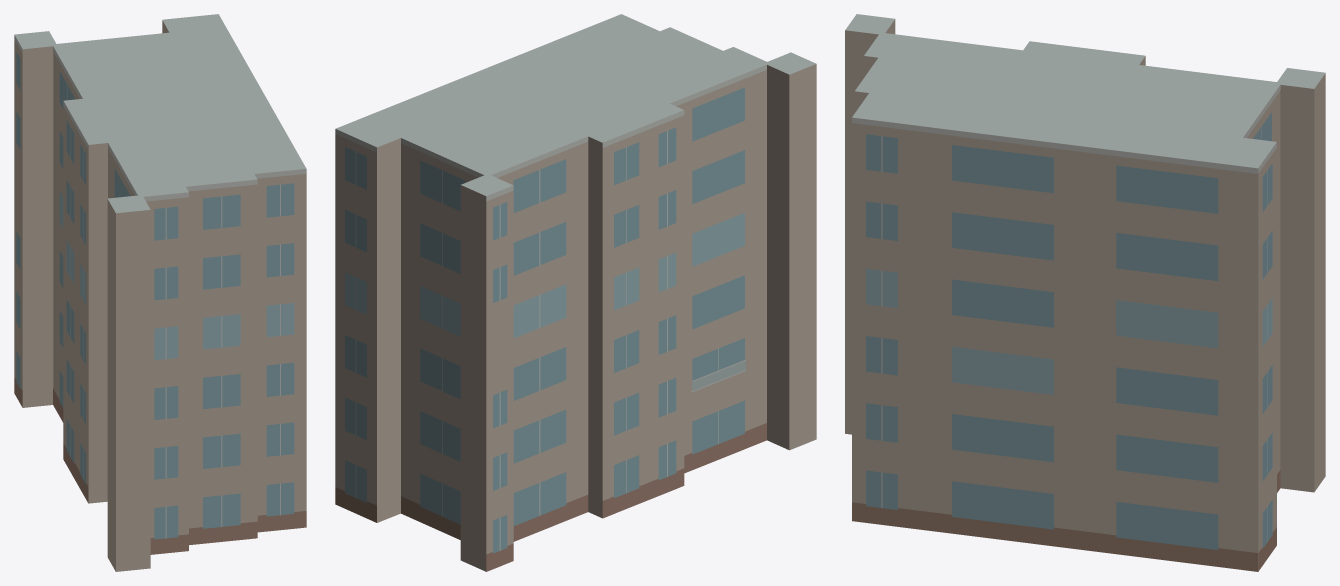
Rendered from survey-upis-32877742.glb.
The picture shows the model from 3 angles, left to right: view 1: azimuth 30°, elevation 25°; view 2: azimuth 150°, elevation 25°; view 3: azimuth 270°, elevation 25°; orthographic projection. The views are drawn at different scales.
Parts seen in each view (by area): view 1: survey-upis-32877742.tmp; view 2: survey-upis-32877742.tmp; view 3: survey-upis-32877742.tmp.
Part boxes in pixels (<box>): survey-upis-32877742.tmp: <box>14,14,306,571</box>; survey-upis-32877742.tmp: <box>335,14,816,571</box>; survey-upis-32877742.tmp: <box>845,14,1325,571</box>.
Bounding box in the file's own units: 14.53 × 17.7 × 19.11.
